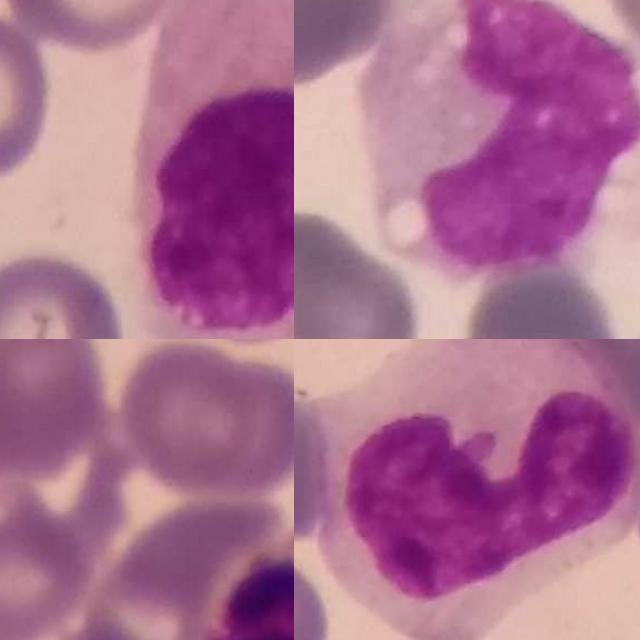Monocyte: (314, 339, 640, 640), (365, 0, 640, 281), (129, 0, 294, 339)
